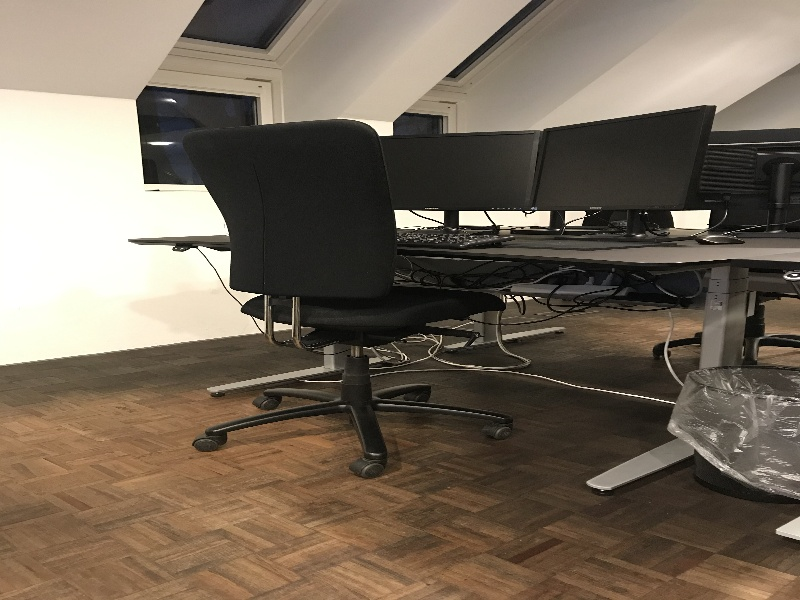bin: (686, 364, 800, 507)
chair: (182, 129, 517, 485)
